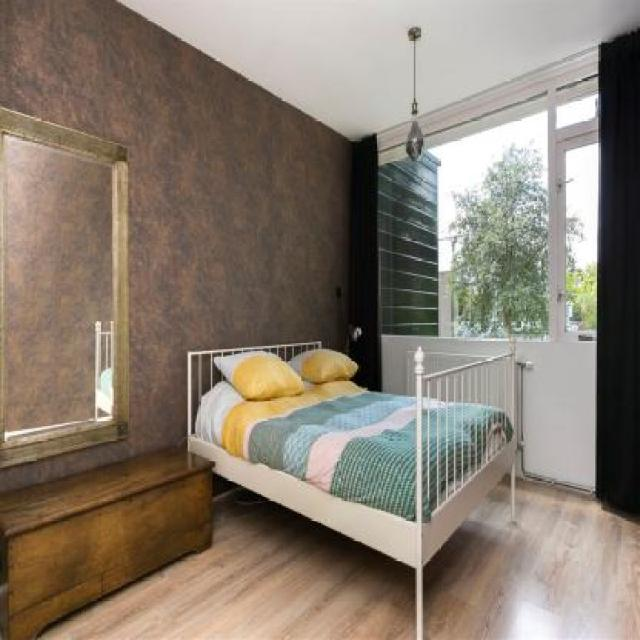floor: (39, 490, 418, 640), (423, 470, 640, 640)
